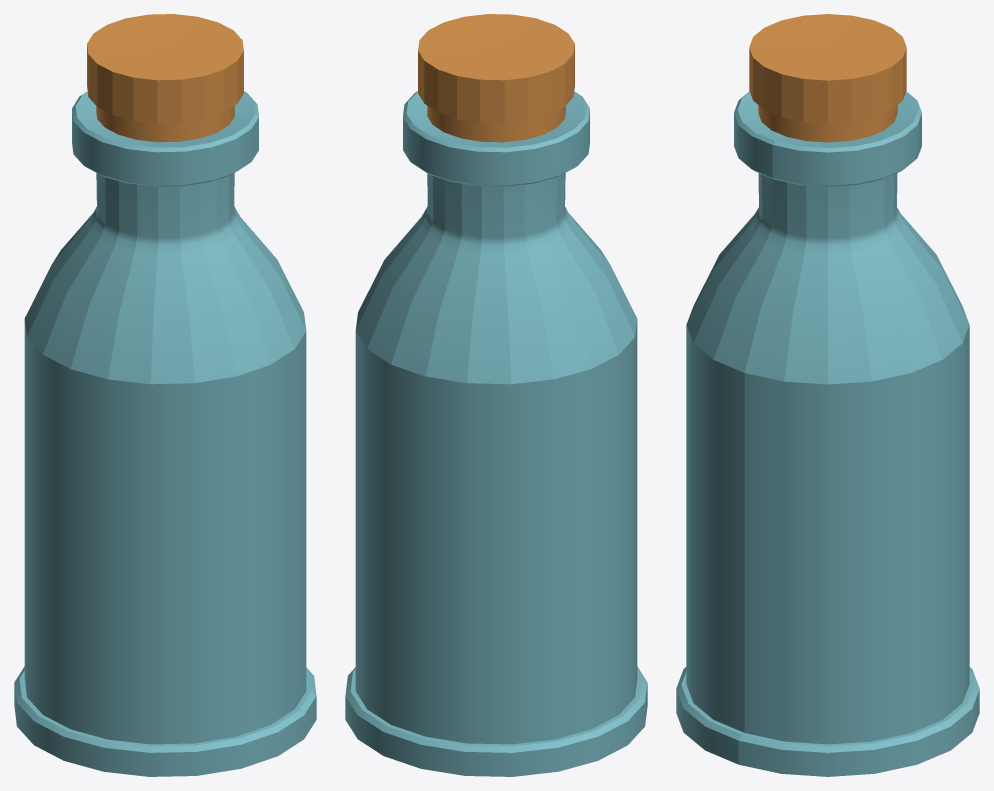
The model's file is Ampolla del espadazo.fbx.
3 views of the same model, side by side, from view 1: azimuth 30°, elevation 25°; view 2: azimuth 150°, elevation 25°; view 3: azimuth 270°, elevation 25° (orthographic).
Visible parts, largest first — view 1: pCylinder1, pCylinder2; view 2: pCylinder1, pCylinder2; view 3: pCylinder1, pCylinder2.
Boxes of the visible parts, bbox=[...] form: pCylinder1: bbox=[14, 91, 316, 776]; pCylinder2: bbox=[87, 14, 243, 142]; pCylinder1: bbox=[345, 91, 647, 776]; pCylinder2: bbox=[418, 14, 574, 142]; pCylinder1: bbox=[676, 91, 979, 776]; pCylinder2: bbox=[749, 14, 906, 142].
Bounding box in the file's own units: 2.15 × 5.19 × 2.15.
